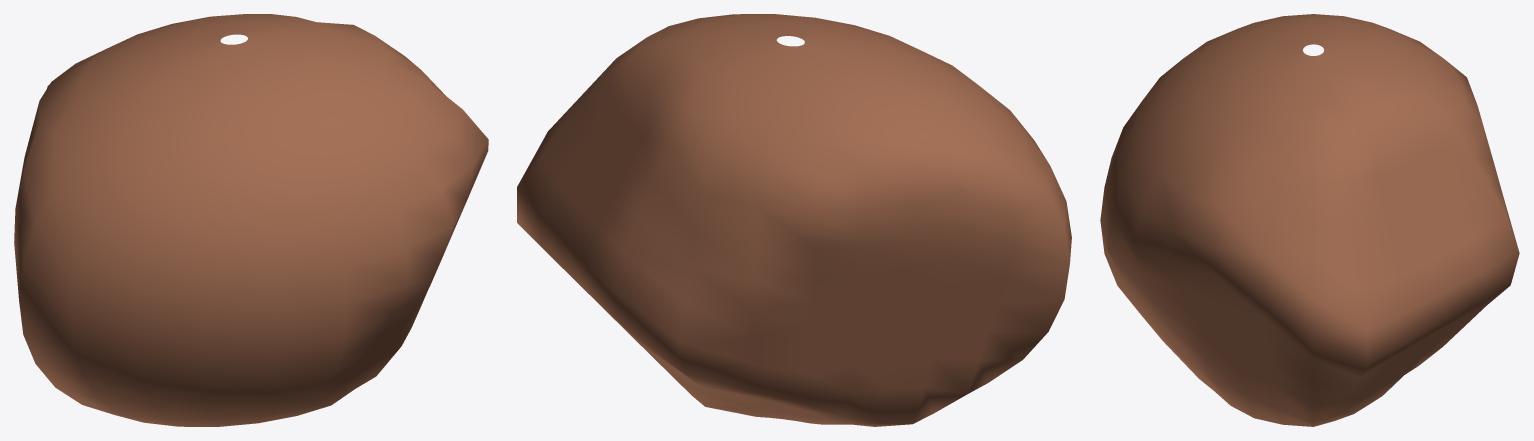
Rendered from boulder0.glb.
3 views of the same model, side by side, from view 1: azimuth 30°, elevation 25°; view 2: azimuth 150°, elevation 25°; view 3: azimuth 270°, elevation 25° (orthographic). The views are drawn at different scales.
Parts seen in each view (by area): view 1: Boulder; view 2: Boulder; view 3: Boulder.
Part boxes in pixels (<box>): Boulder: <box>14,14,488,426</box>; Boulder: <box>517,14,1071,426</box>; Boulder: <box>1100,14,1519,426</box>.
Size of the model in its own units: 2.15 by 1.5 by 1.67.
